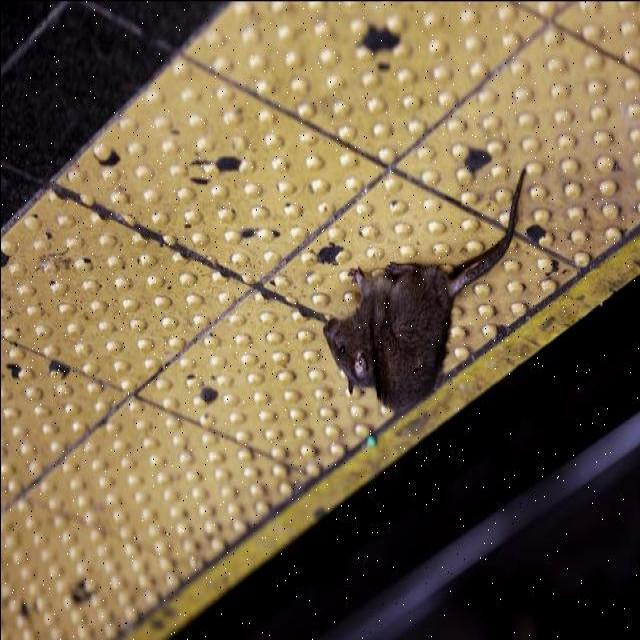rat: (323, 162, 529, 414)
